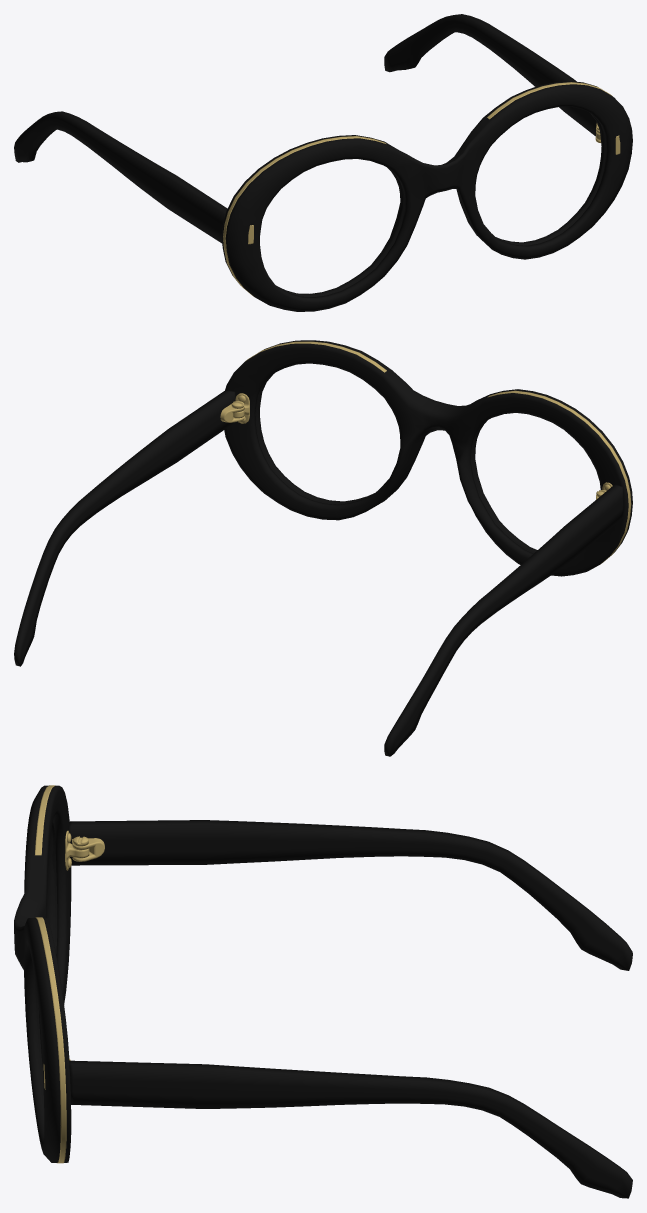
File: sunglass1.glb
3 renders of one model, top to bottom at view 1: azimuth 30°, elevation 25°; view 2: azimuth 150°, elevation 25°; view 3: azimuth 270°, elevation 25°, orthographic. The views are drawn at different scales.
Parts seen in each view (by area): view 1: glasses_v3_01; view 2: glasses_v3_01; view 3: glasses_v3_01.
Part boxes in pixels (x1,y1,x2,y2): glasses_v3_01: (14,14,632,311); glasses_v3_01: (14,340,632,756); glasses_v3_01: (14,785,632,1198).
Bounding box in the file's own units: 0.1472 × 0.0585 × 0.1519.
